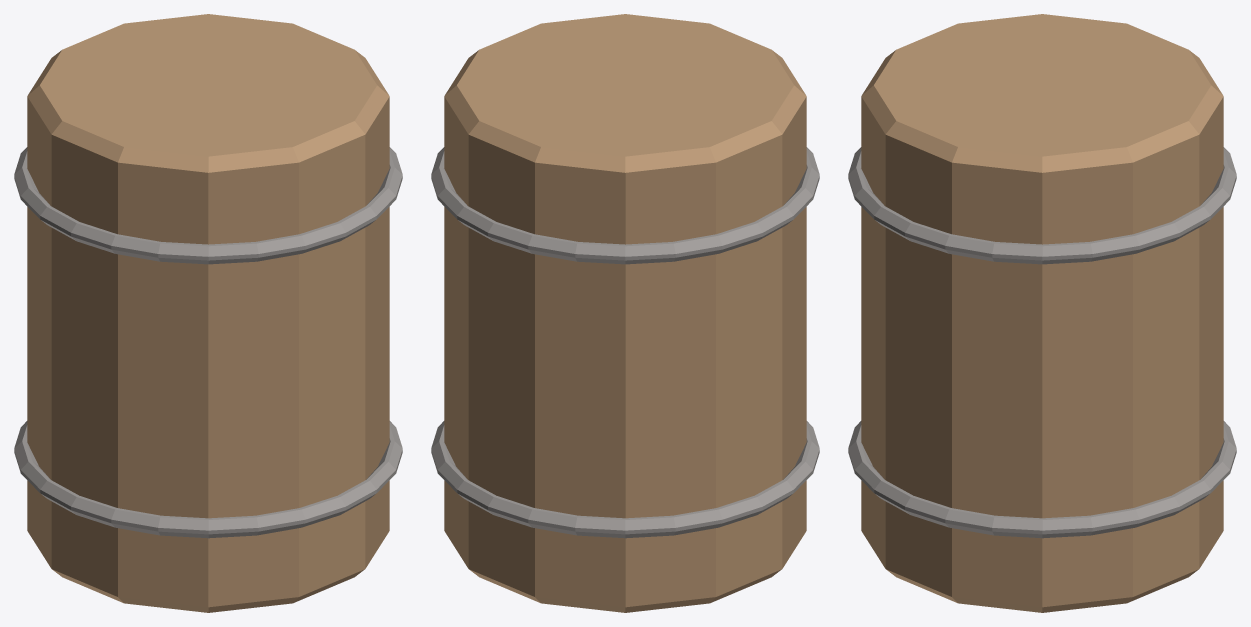
The picture shows the model from 3 angles, left to right: view 1: azimuth 30°, elevation 25°; view 2: azimuth 150°, elevation 25°; view 3: azimuth 270°, elevation 25°; orthographic projection.
Parts seen in each view (by area): view 1: Barrel; view 2: Barrel; view 3: Barrel.
Part boxes in pixels (left/top/right/bottom): Barrel: left=14, top=14, right=402, bottom=612; Barrel: left=431, top=14, right=819, bottom=612; Barrel: left=848, top=14, right=1236, bottom=612.
Bounding box in the file's own units: 0.3859 × 0.5 × 0.3859.
